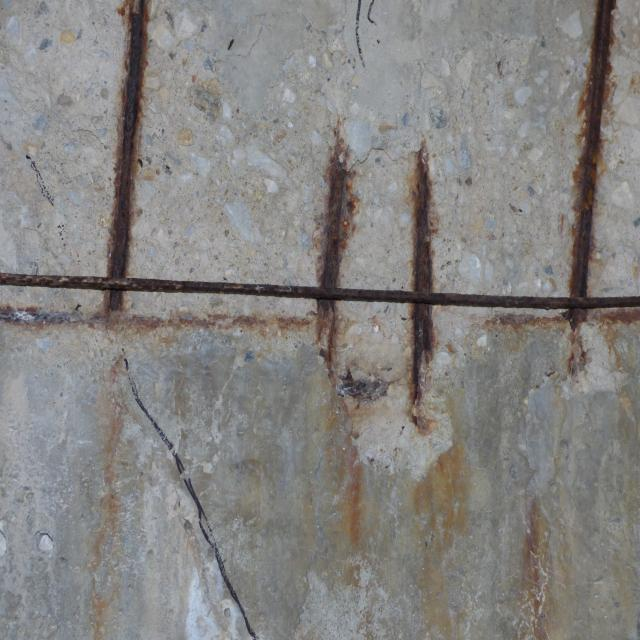corrosion: (0, 263, 640, 640), (296, 115, 445, 371), (83, 0, 168, 340), (546, 0, 632, 333)
